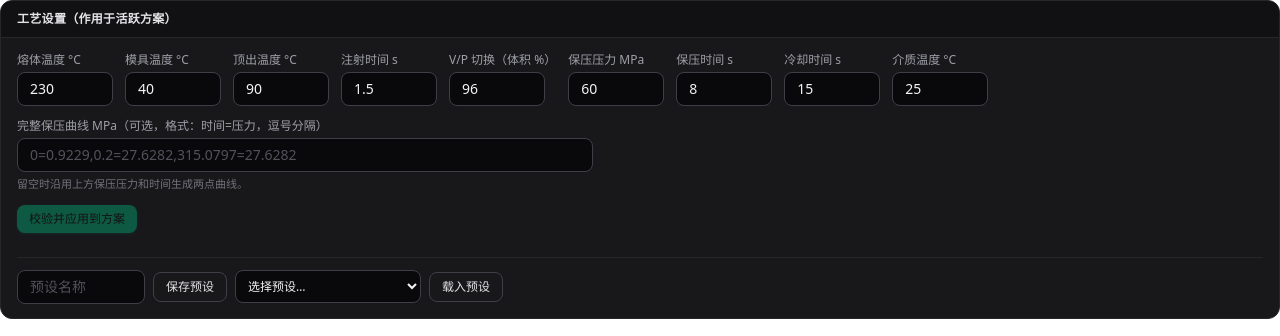
Test case: ProcessPanel › Mug 基线预设回填完整三点保压曲线
Select "Mug 基线（220°C / 50°C）" in the dropdown at [328, 286], box [235, 270, 421, 303]
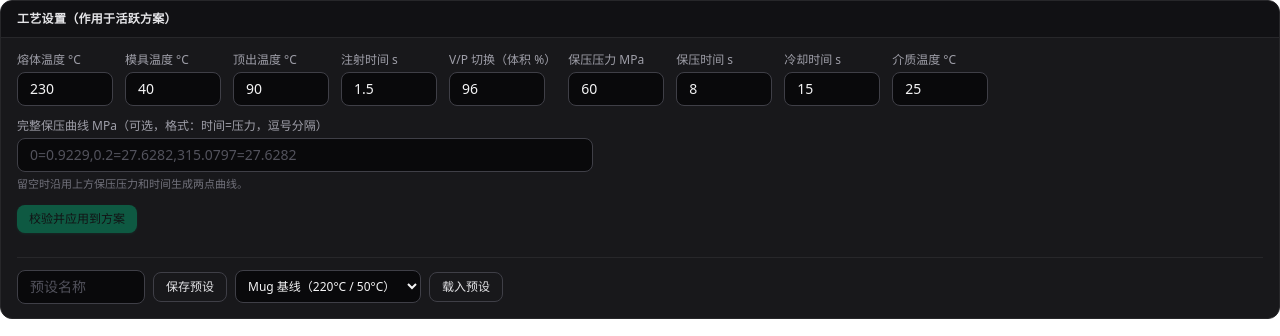
Click the button "载入预设" at [466, 286], box [429, 272, 503, 302]
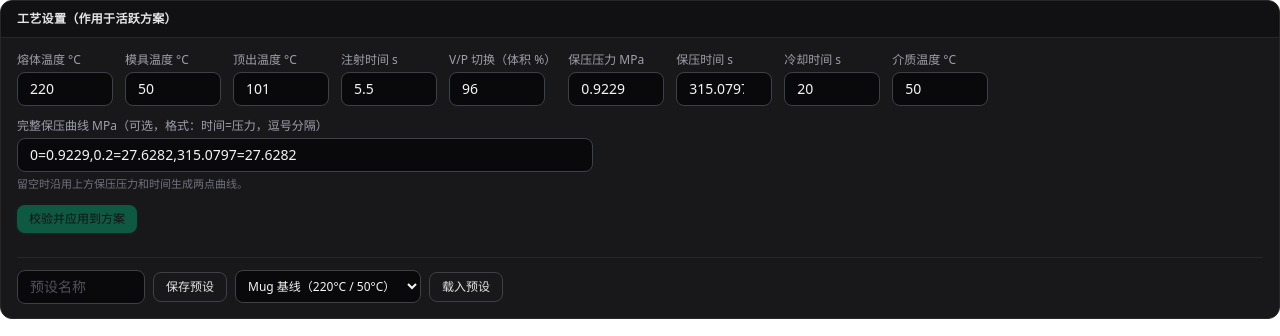
Now the number field labelled "熔体温度 °C" holds "220", box [17, 72, 113, 106]
Now the number field labelled "模具温度 °C" holds "50", box [125, 72, 221, 106]
Now the field labelled "完整保压曲线 MPa（可选，格式：时间=压力，逗号分隔） 留空时沿用上方保压压力和时间生成两点曲线。" holds "0=0.9229,0.2=27.6282,315.0797=27.6282", box [17, 138, 593, 172]
